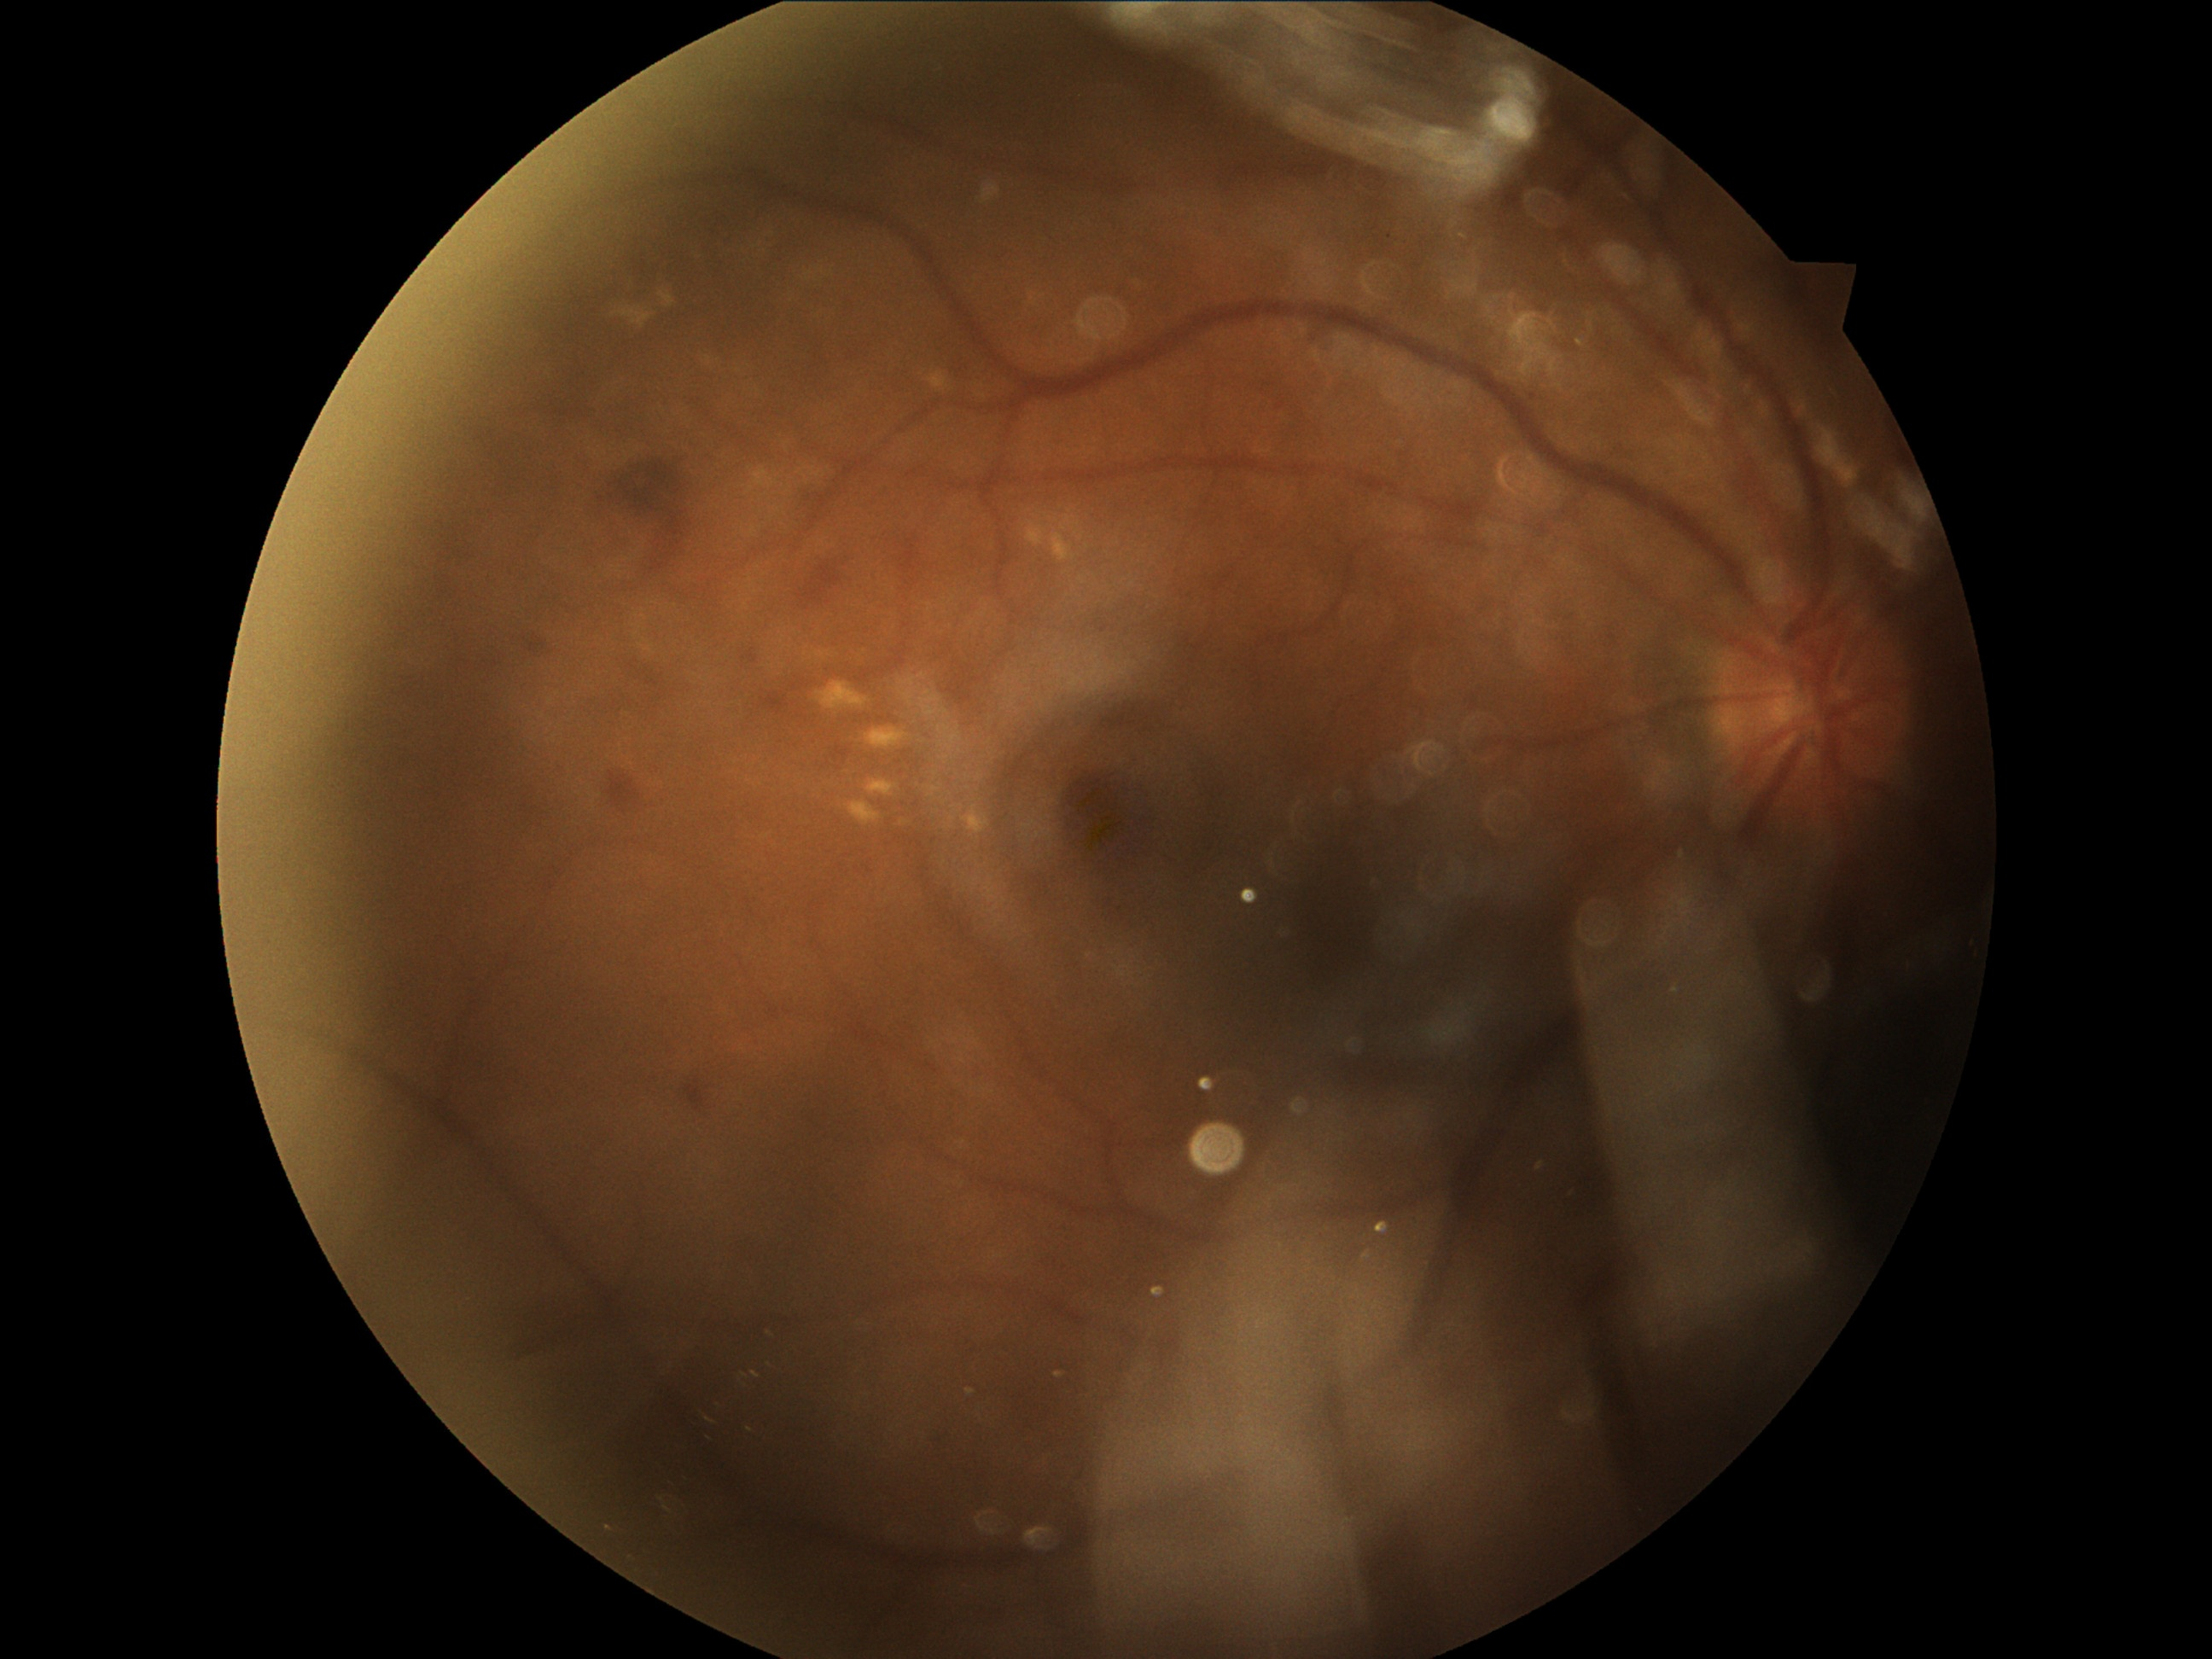Fovea: (995, 699, 1205, 913)
OD: (1698, 582, 1933, 857)
